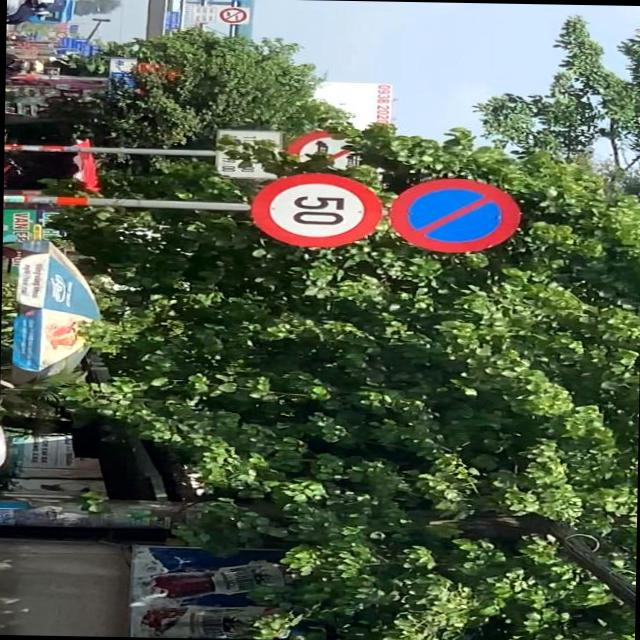P-127: (250, 172, 384, 246)
P-131a: (388, 176, 520, 254)
